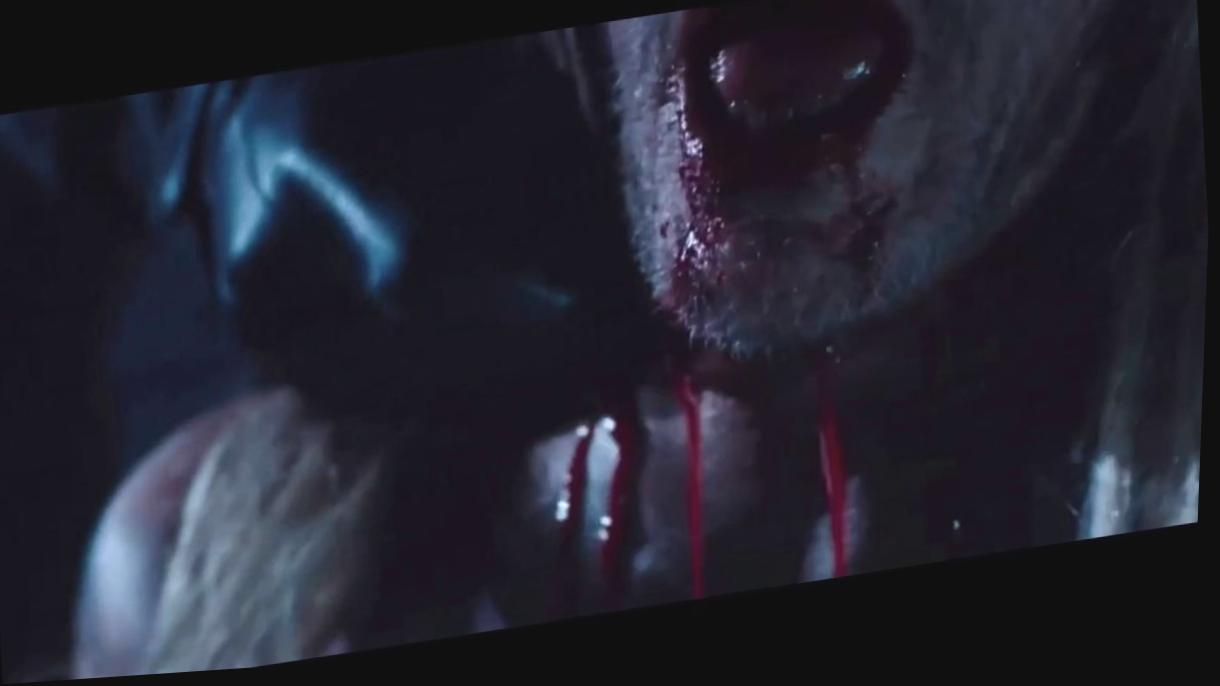Fire: (626, 25, 907, 608), (600, 427, 649, 600), (564, 437, 605, 600)
